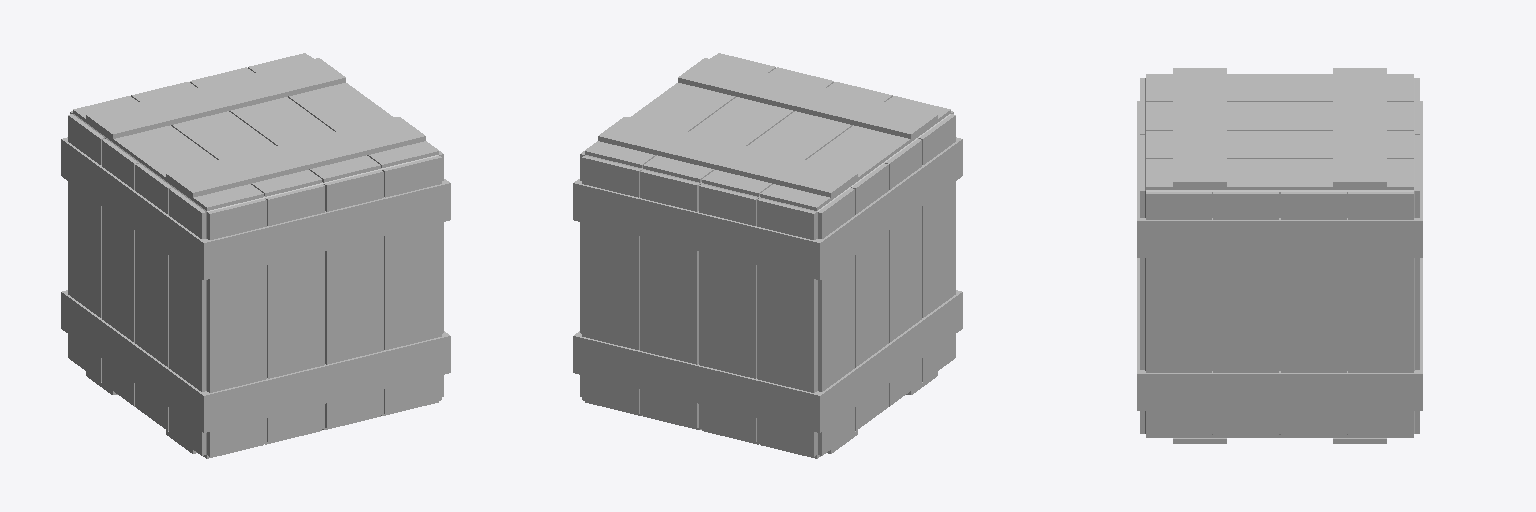
Rendered from crate.obj.
3 views of the same model, side by side, from view 1: azimuth 30°, elevation 25°; view 2: azimuth 150°, elevation 25°; view 3: azimuth 270°, elevation 25° (orthographic).
Parts seen in each view (by area): view 1: Crate_Cube.001; view 2: Crate_Cube.001; view 3: Crate_Cube.001.
Boxes of the visible parts, <box> form: Crate_Cube.001: <box>61,53,450,458</box>; Crate_Cube.001: <box>573,53,962,458</box>; Crate_Cube.001: <box>1137,68,1422,443</box>.
Size of the model in its own units: 2.12 by 2.14 by 2.12.